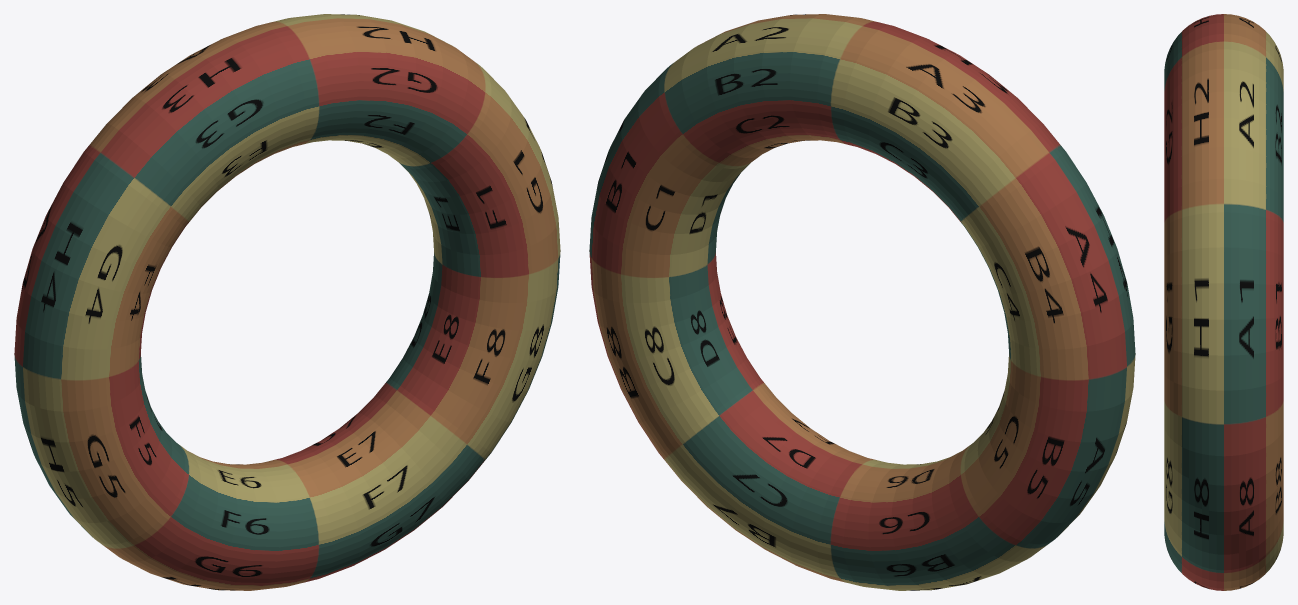
The model's file is texture_torus_R21_r16.glb.
3 renders of one model, left to right at view 1: azimuth 30°, elevation 25°; view 2: azimuth 150°, elevation 25°; view 3: azimuth 270°, elevation 25°, orthographic. The views are drawn at different scales.
Parts seen in each view (by area): view 1: world; view 2: world; view 3: world.
Boxes of the visible parts, <box> form: world: <box>14,14,560,590</box>; world: <box>589,14,1135,590</box>; world: <box>1164,14,1283,590</box>.
Bounding box in the file's own units: 30.27 × 30.21 × 6.25.
1 material, 1 textured.
